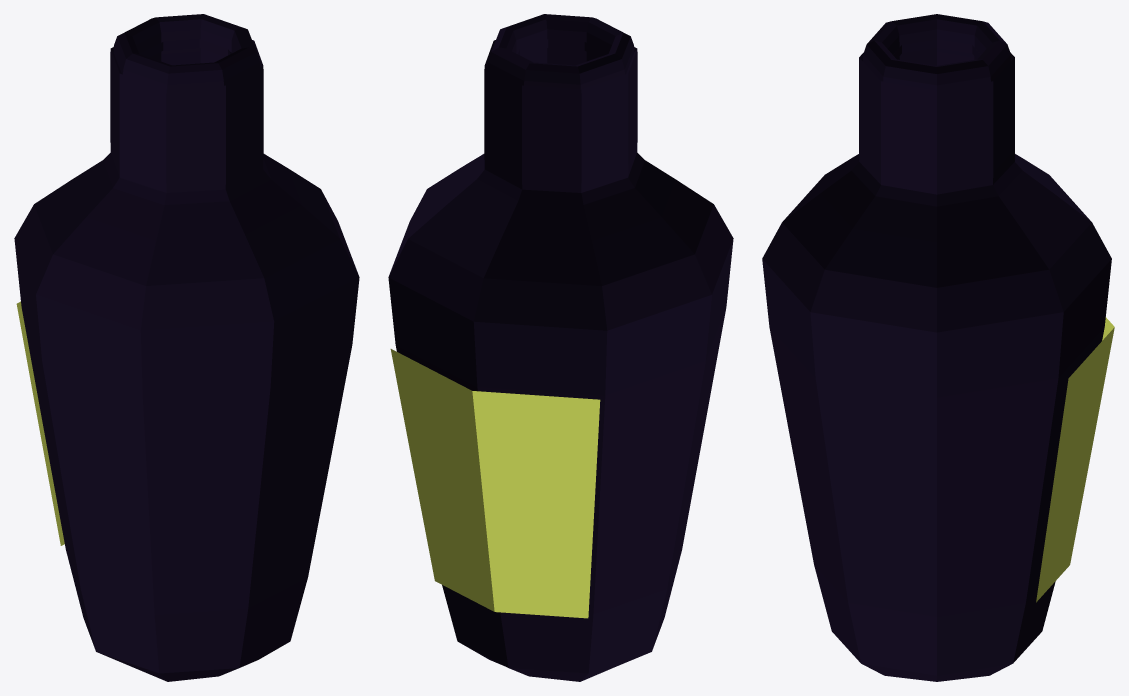
File: Bottle 5.fbx
The picture shows the model from 3 angles, left to right: view 1: azimuth 30°, elevation 25°; view 2: azimuth 150°, elevation 25°; view 3: azimuth 270°, elevation 25°; orthographic projection.
Visible parts, largest first — view 1: Node 0; view 2: Node 0; view 3: Node 0.
Part boxes in pixels (box(x1,y1,x2,y2)): Node 0: box(14, 14, 359, 681); Node 0: box(388, 14, 733, 681); Node 0: box(762, 14, 1114, 681).
Bounding box in the file's own units: 0.1906 × 0.3681 × 0.189.
